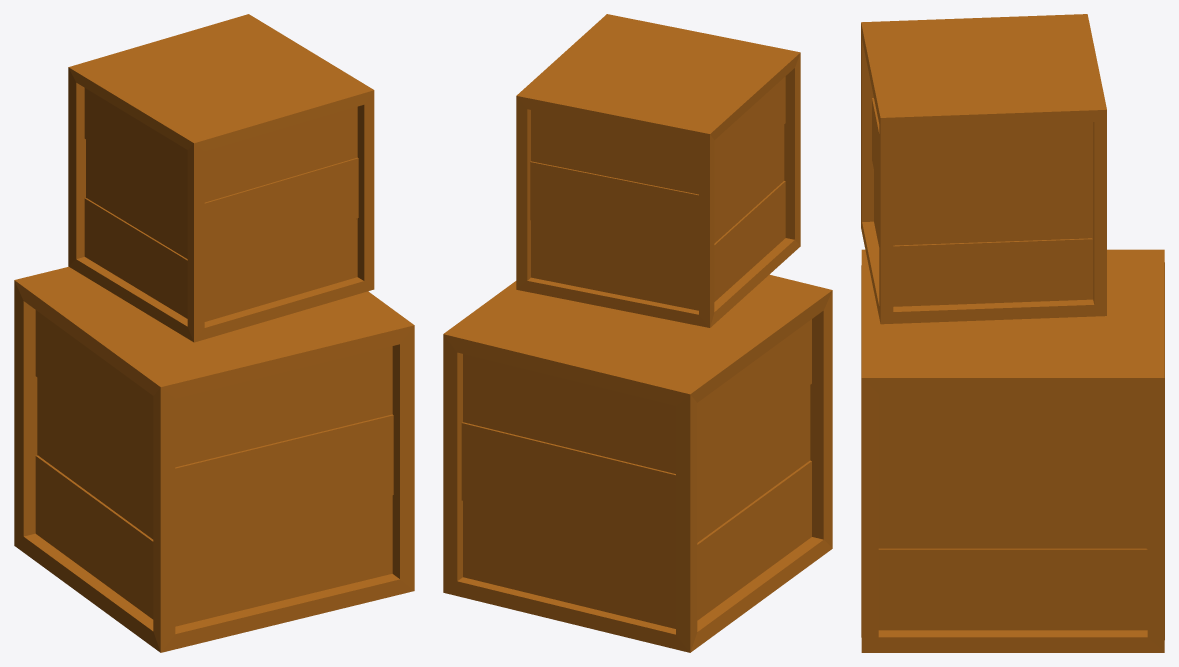
3 renders of one model, left to right at view 1: azimuth 30°, elevation 25°; view 2: azimuth 150°, elevation 25°; view 3: azimuth 270°, elevation 25°, orthographic. The views are drawn at different scales.
Visible parts, largest first — view 1: Kotak, Kotak .001; view 2: Kotak, Kotak .001; view 3: Kotak, Kotak .001.
Part boxes in pixels (x1,y1,x2,y2): Kotak: (14, 266, 414, 652); Kotak .001: (68, 14, 374, 342); Kotak: (443, 274, 832, 652); Kotak .001: (516, 14, 800, 327); Kotak: (861, 249, 1164, 652); Kotak .001: (861, 14, 1106, 324).
Size of the model in its own units: 80 by 151 by 80.09.
